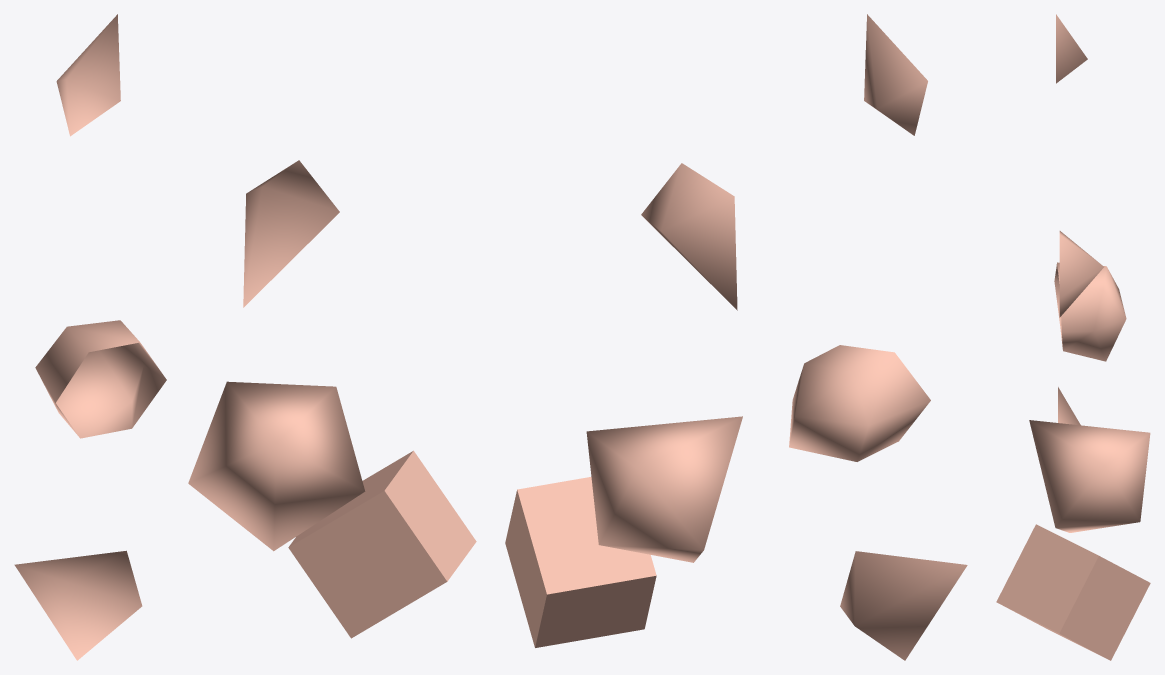
3 views of the same model, side by side, from view 1: azimuth 30°, elevation 25°; view 2: azimuth 150°, elevation 25°; view 3: azimuth 270°, elevation 25° (orthographic). The views are drawn at different scales.
Visible parts, largest first — view 1: Object05; view 2: Object05; view 3: Object05.
Boxes of the visible parts, x1,y1,x2,y2 form: Object05: [14, 14, 476, 660]; Object05: [505, 14, 967, 660]; Object05: [996, 14, 1150, 660].
Size of the model in its own units: 9034 by 12729 by 3342.
